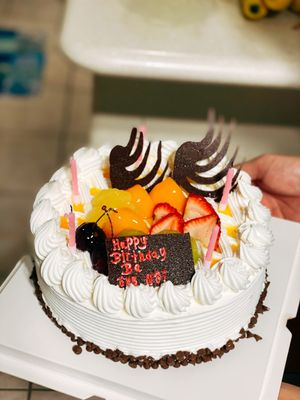salad: (57, 0, 300, 88)
sushi: (28, 117, 277, 371)
